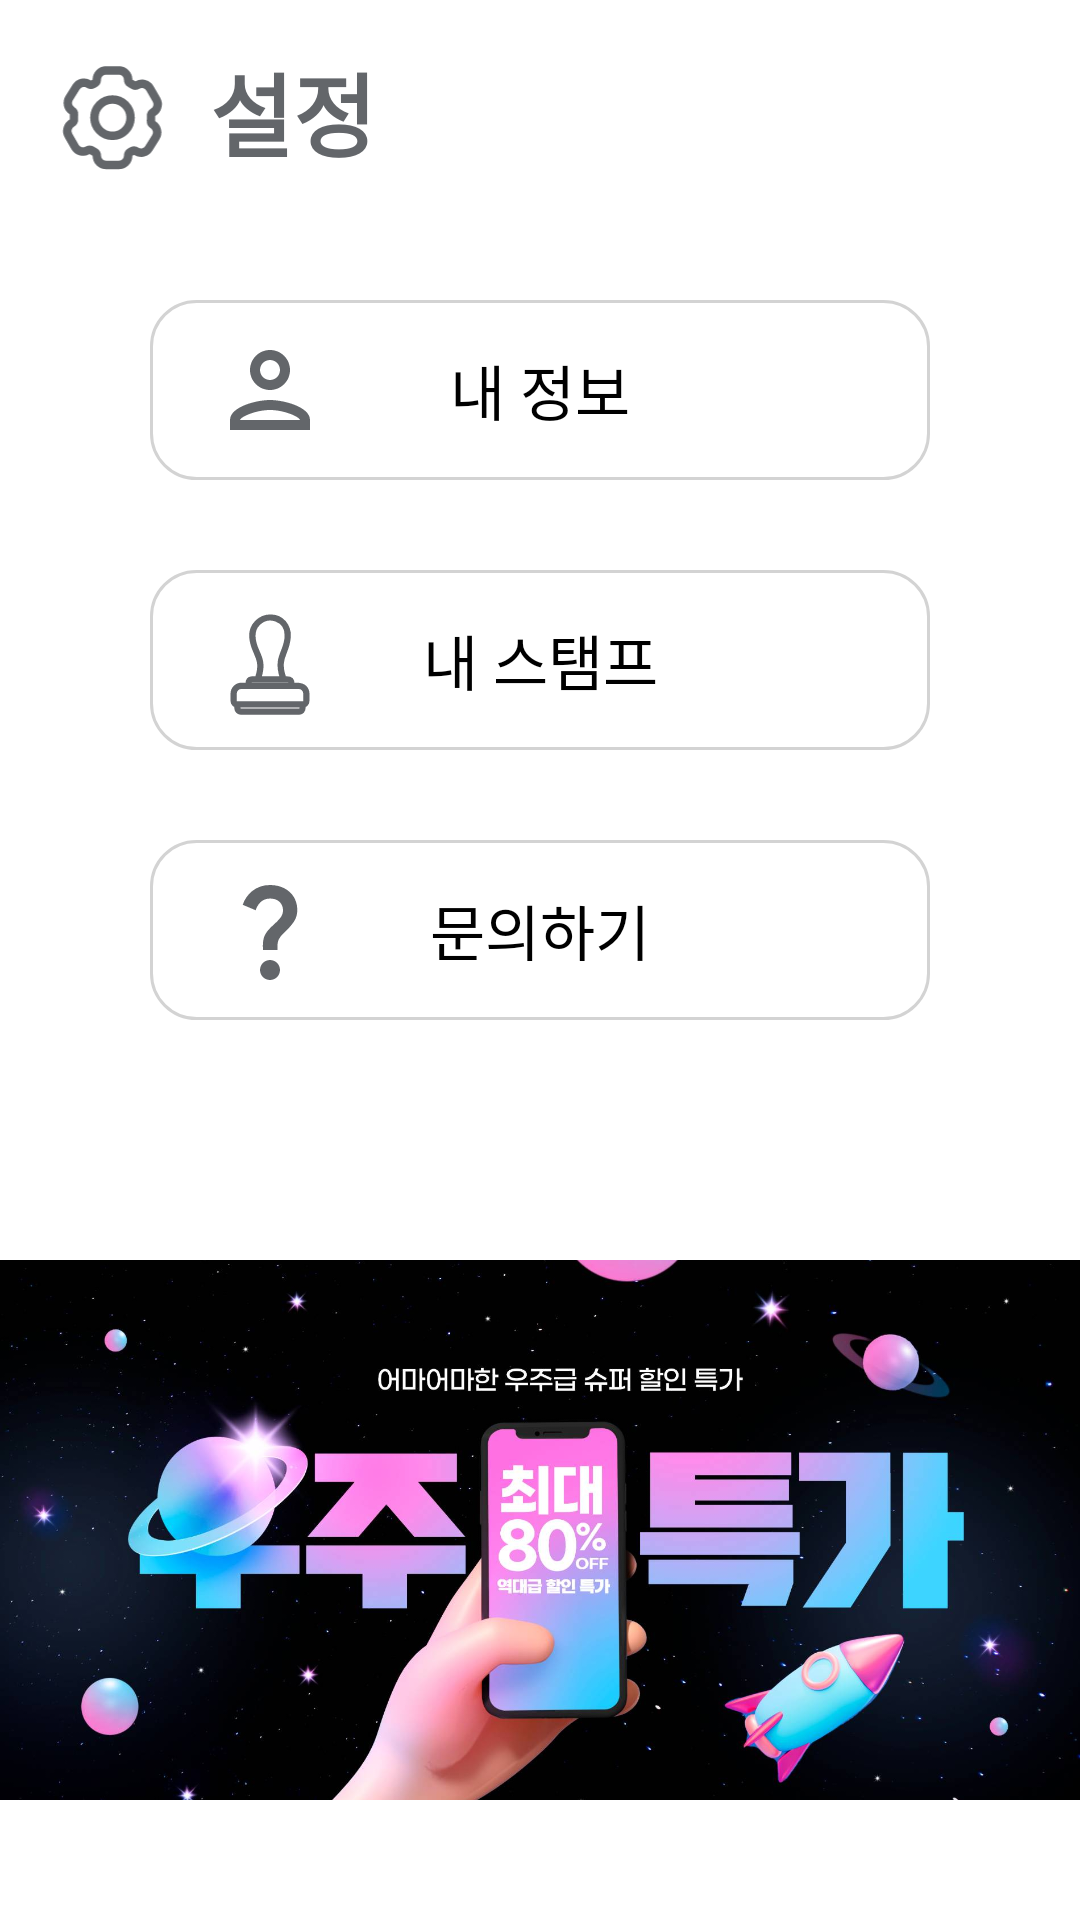

Locate icon controls on the screen. Image size 1080px×1920px, boxes as [left=x1, top=y1, right=x2, bottom=y2].
account: [left=230, top=350, right=310, bottom=430]
question: [left=243, top=885, right=298, bottom=980]
setting: [left=62, top=66, right=163, bottom=170]
stamp: [left=230, top=614, right=310, bottom=715]
